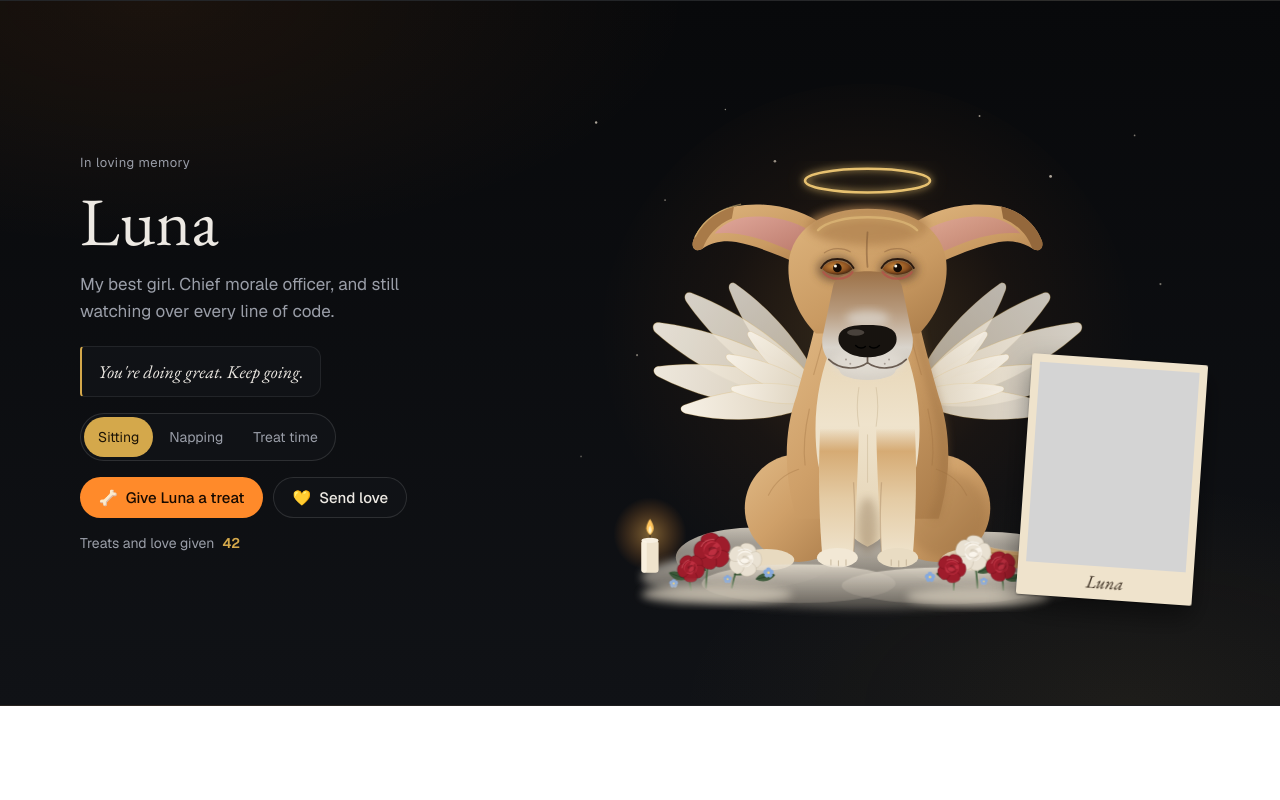
LunaAngelScene › increments count on send love / pet button click
This screenshot has width=1280, height=800.
Click the button named "Send love and pet Luna" at coordinates (340, 497), box [273, 477, 407, 518]
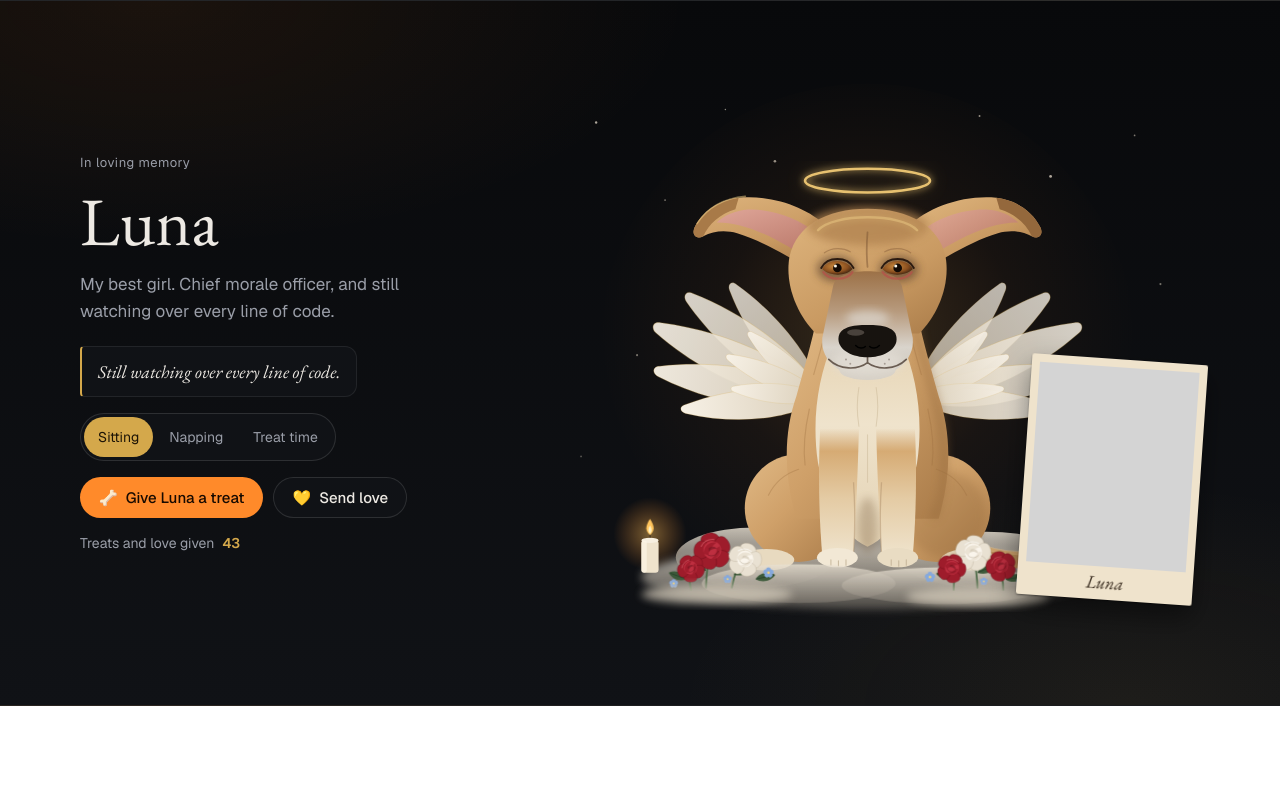
expect the text "43" is shown: met, box [222, 534, 240, 552]
